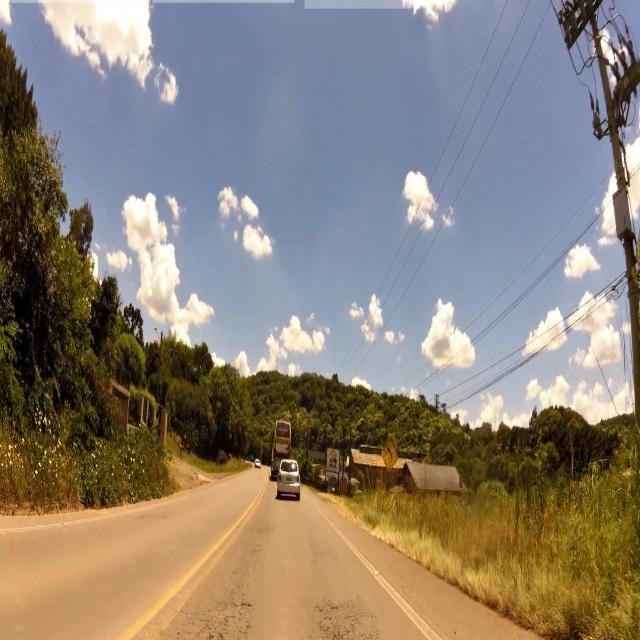A-2a: (384, 439, 398, 472)
